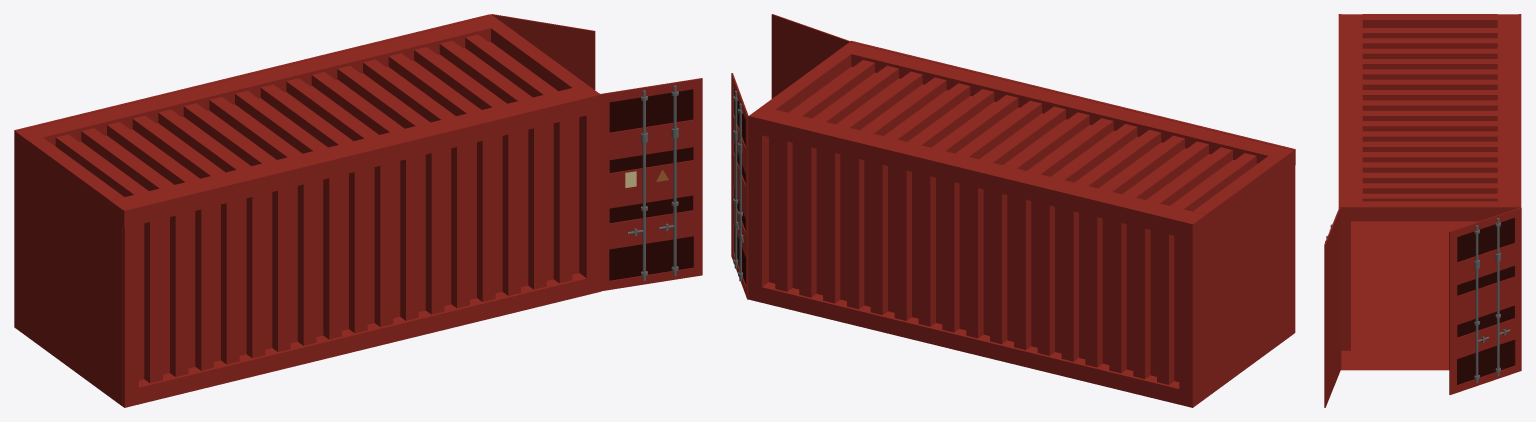
File: Building_CargoContainerOpened_Red.fbx
3 renders of one model, left to right at view 1: azimuth 30°, elevation 25°; view 2: azimuth 150°, elevation 25°; view 3: azimuth 270°, elevation 25°, orthographic. The views are drawn at different scales.
Visible parts, largest first — view 1: Cube, Cylinder.002, Cylinder.003; view 2: Cube, Cylinder.002, Cylinder.003; view 3: Cube, Cylinder.003, Cylinder.002.
Part boxes in pixels (box(x1,y1,x2,y2)): Cube: box(14, 14, 601, 407); Cylinder.002: box(601, 78, 702, 291); Cylinder.003: box(491, 14, 595, 89); Cube: box(748, 40, 1295, 407); Cylinder.002: box(771, 14, 849, 98); Cylinder.003: box(731, 73, 748, 299); Cube: box(1338, 14, 1521, 370); Cylinder.003: box(1449, 207, 1521, 394); Cylinder.002: box(1324, 207, 1340, 407).
Size of the model in its own units: 616 by 204 by 223.
